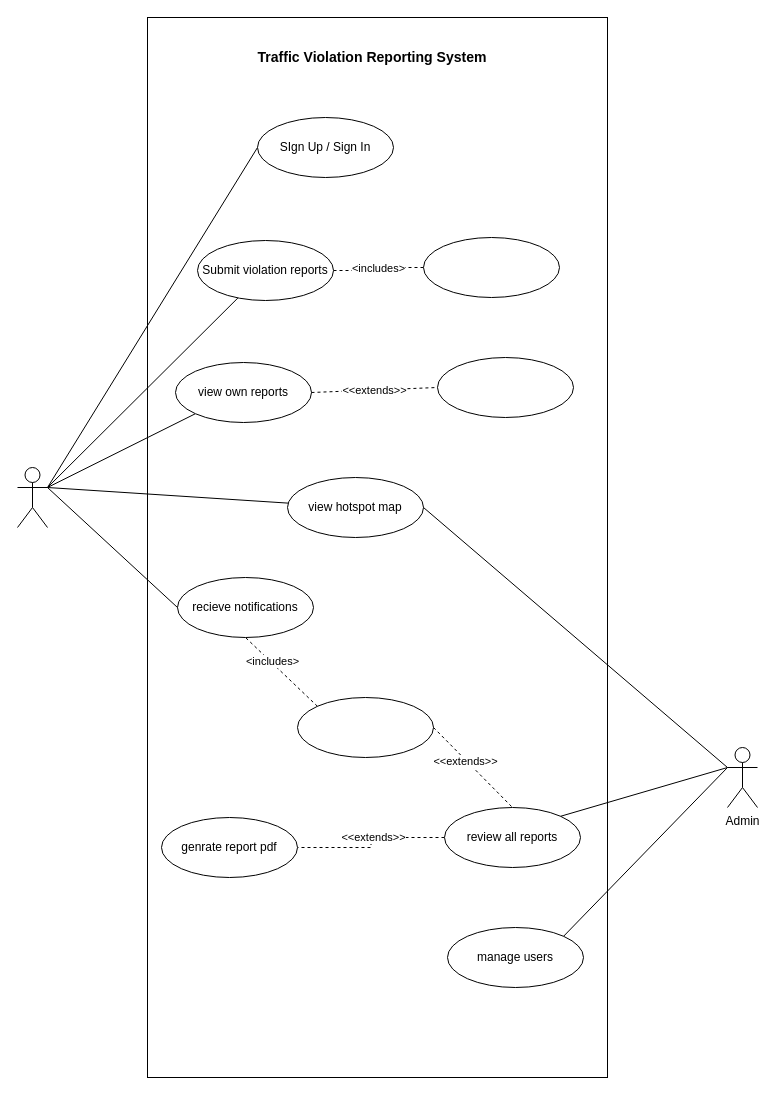
This 777x1095 diagram has some shape labels left out. The centre of each missing label's shape, as x and y in pixels:
"auto scan number plate" goes at pixel 491 267.
"edit / delete reports" goes at pixel 505 387.
"update report status" goes at pixel 365 727.
"User" goes at pixel 32 497.
